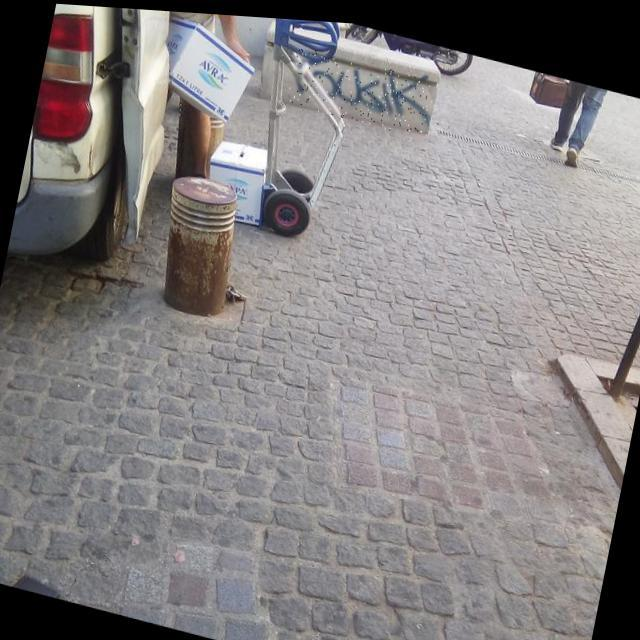-: (286, 42, 437, 134)
